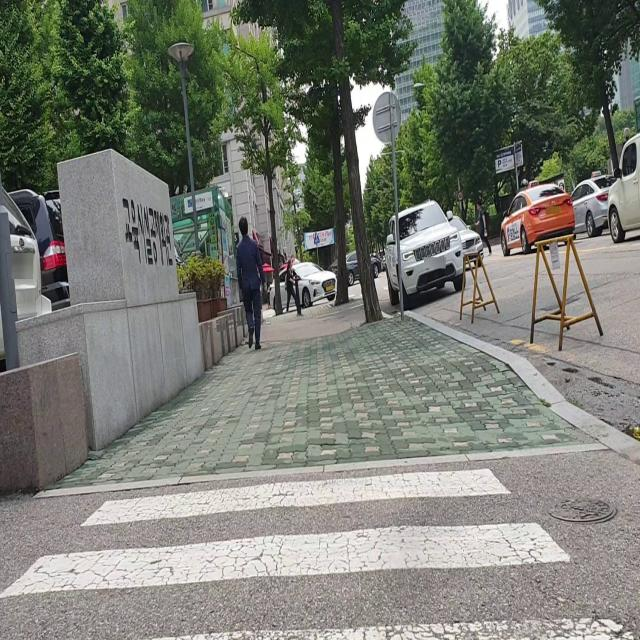횡단보도: (0, 463, 637, 640)
